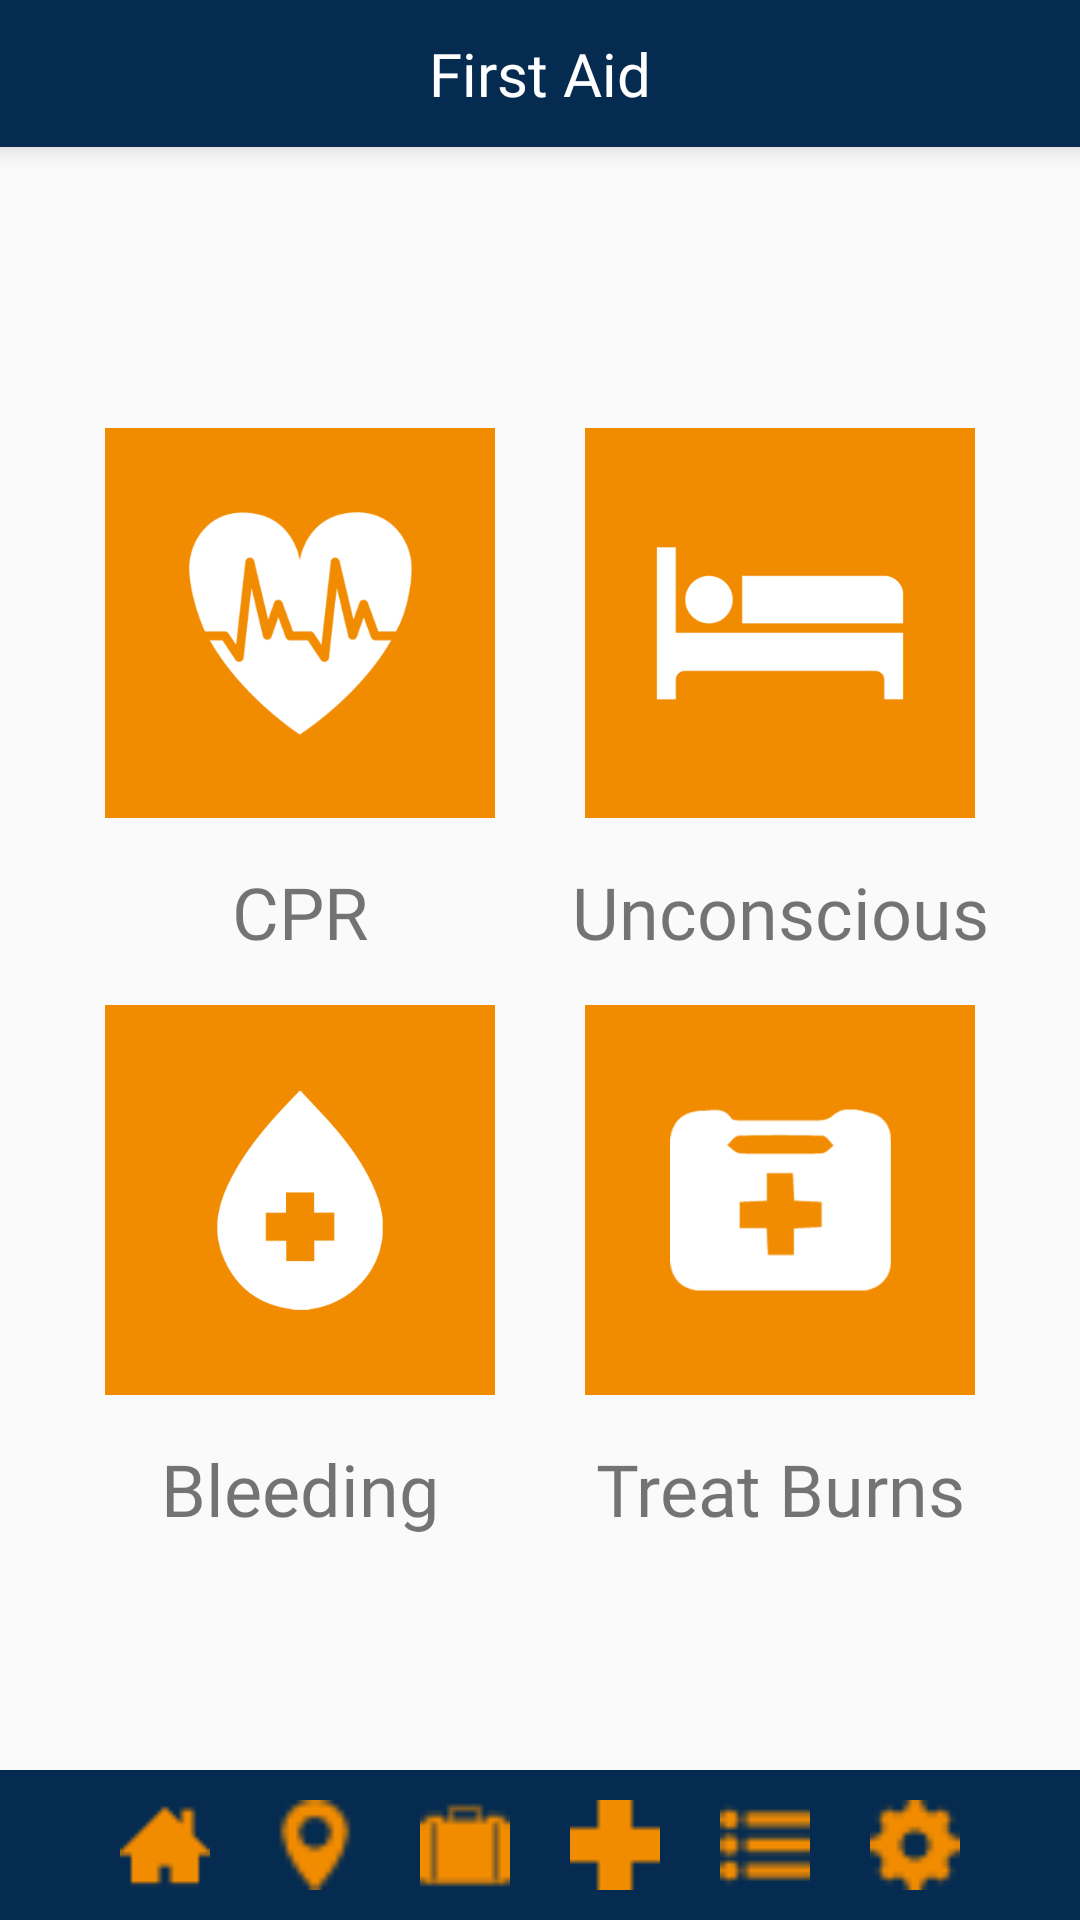

Icons on this 1080x1920 Android screen, each with its box as [x1=x1, y1=y1, x2=x2, y2=y2]:
area: [x1=279, y1=1800, x2=351, y2=1890]
bag: [x1=420, y1=1804, x2=510, y2=1886]
drills: [x1=720, y1=1807, x2=810, y2=1883]
firstaid: [x1=570, y1=1800, x2=660, y2=1890]
home: [x1=120, y1=1806, x2=210, y2=1885]
settings: [x1=870, y1=1800, x2=960, y2=1890]
